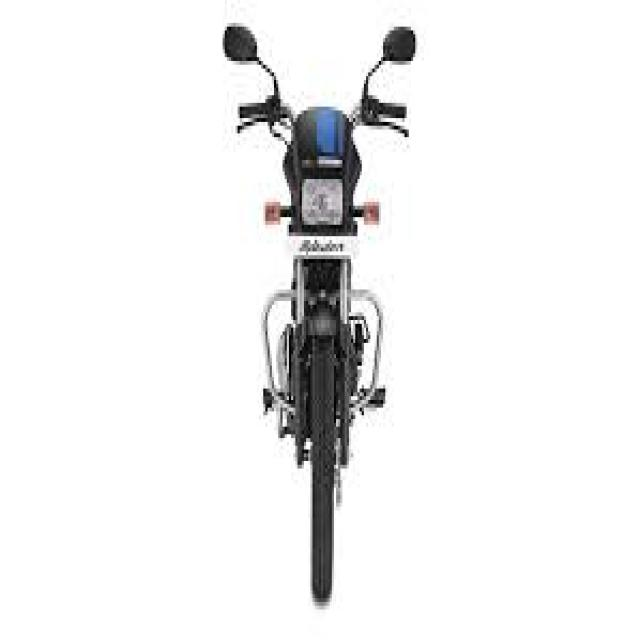Bike: (223, 22, 416, 610)
